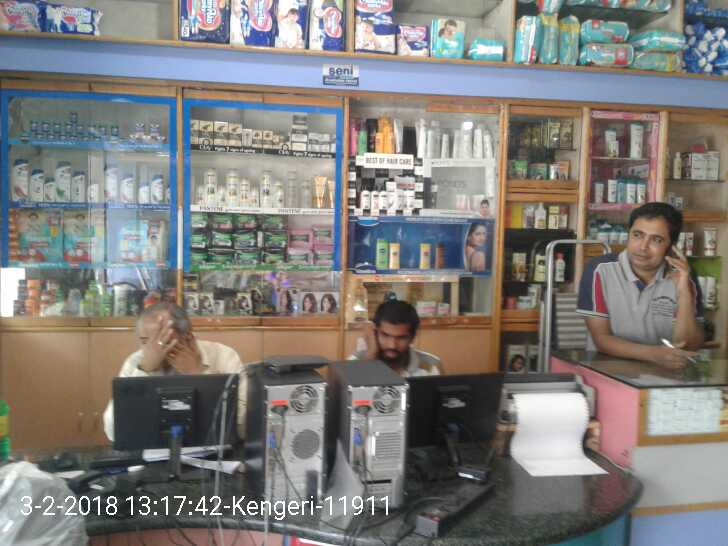beauty: (188, 212, 330, 266), (187, 114, 330, 147), (62, 203, 110, 271), (114, 216, 167, 265), (17, 209, 63, 263), (259, 164, 286, 207), (51, 160, 73, 202), (225, 170, 250, 206), (201, 160, 218, 210), (11, 158, 30, 201), (100, 159, 118, 201), (151, 172, 172, 205), (311, 172, 332, 201), (68, 172, 89, 200), (30, 171, 50, 199), (121, 166, 134, 209), (135, 182, 154, 210), (114, 216, 123, 217), (716, 125, 719, 127)
